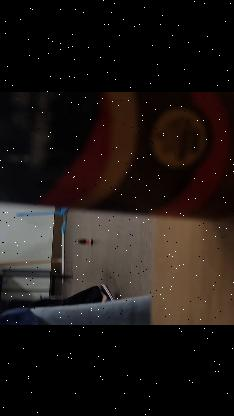Can: (0, 91, 234, 215)
